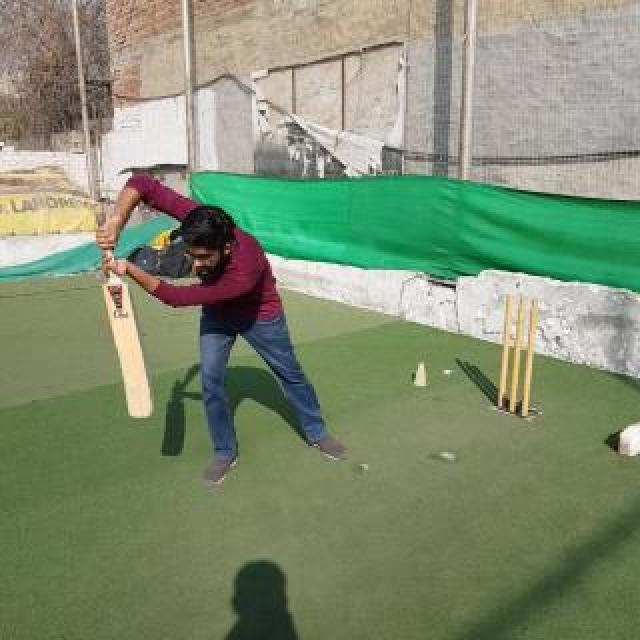bat: (94, 204, 158, 420)
